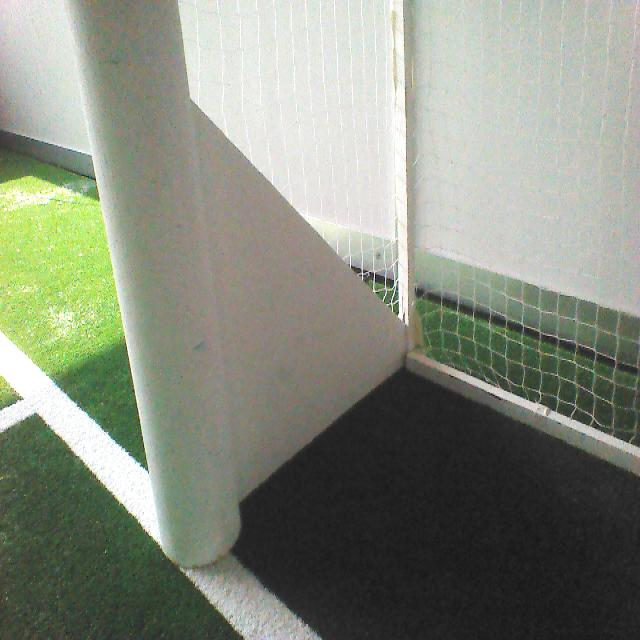goalpost: (62, 2, 243, 566)
